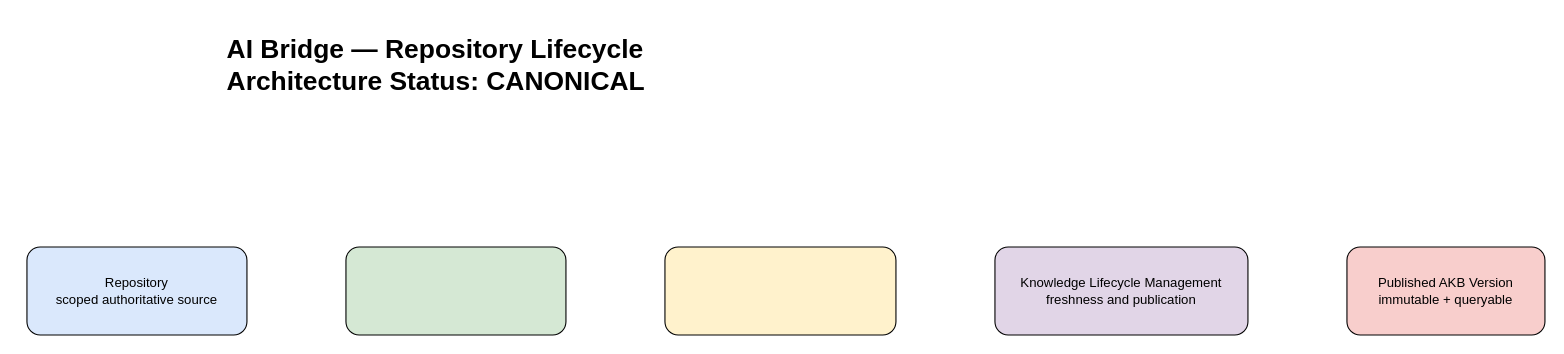
Image size: 1564x354. Some labels were removed from this diagram. The box of each missing label's shape, as (x1, y1, x2, y2) in pixels:
Governed Change approved scope + evidence: (345, 246, 566, 335)
Repository / Domain Events traceable change facts: (664, 246, 896, 335)
